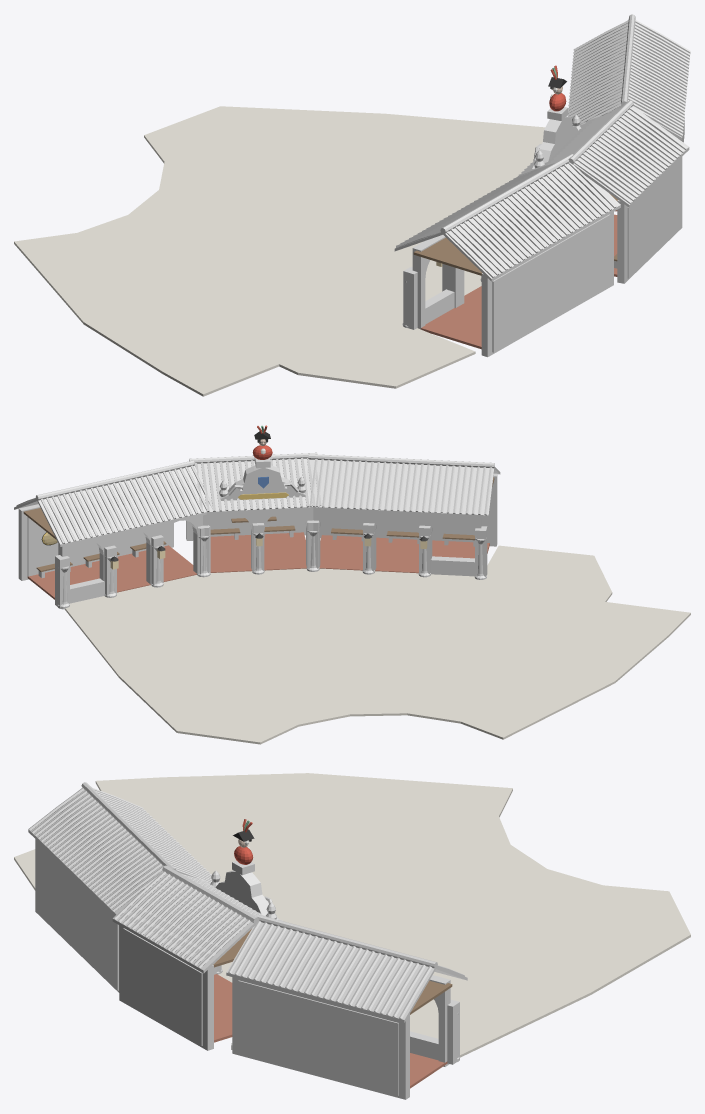
File: KG_kogeloog.fbx
The picture shows the model from 3 angles, top to bottom: view 1: azimuth 30°, elevation 25°; view 2: azimuth 150°, elevation 25°; view 3: azimuth 270°, elevation 25°; orthographic projection. The views are drawn at different scales.
Parts seen in each view (by area): view 1: static__MAT_grind_0, static__TEX_pannen_0, COLL_4, COLL_8, static__TEX_stuc_V_0, static__TEX_stuc_L_0, static__MAT_tegel_0, static__MAT_hout_0, COLL_0, static__TEX_stuc_A_0, static__TEX_baksteen_0; view 2: static__MAT_grind_0, static__TEX_pannen_0, static__MAT_tegel_0, static__TEX_stuc_A_0, static__TEX_stuc_L_0, COLL_4, COLL_13, static__MAT_hout_0, static__TEX_baksteen_0, COLL_8, COLL_12, COLL_0; view 3: static__MAT_grind_0, static__TEX_pannen_0, COLL_13, COLL_8, COLL_4, static__TEX_stuc_R_0, static__TEX_stuc_V_0, static__MAT_tegel_0, static__TEX_stuc_A_0, static__MAT_hout_0, COLL_12, static__TEX_baksteen_0.
Boxes of the visible parts, <box> form: static__MAT_grind_0: <box>14,106,545,396</box>; static__TEX_pannen_0: <box>394,14,690,281</box>; COLL_4: <box>492,214,610,352</box>; COLL_8: <box>627,159,680,278</box>; static__TEX_stuc_V_0: <box>421,108,682,356</box>; static__TEX_stuc_L_0: <box>402,111,624,356</box>; static__MAT_tegel_0: <box>421,210,617,349</box>; static__MAT_hout_0: <box>413,193,617,275</box>; COLL_0: <box>403,266,417,329</box>; static__TEX_stuc_A_0: <box>403,107,619,326</box>; static__TEX_baksteen_0: <box>425,289,454,324</box>; static__MAT_grind_0: <box>65,545,690,744</box>; static__TEX_pannen_0: <box>14,452,500,546</box>; static__MAT_tegel_0: <box>27,532,489,599</box>; static__TEX_stuc_A_0: <box>18,458,497,609</box>; static__TEX_stuc_L_0: <box>21,475,497,607</box>; COLL_4: <box>322,508,489,542</box>; COLL_13: <box>27,517,168,576</box>; static__MAT_hout_0: <box>23,477,494,571</box>; static__TEX_baksteen_0: <box>70,556,474,603</box>; COLL_8: <box>210,510,303,536</box>; COLL_12: <box>55,555,69,608</box>; COLL_0: <box>475,526,487,576</box>; static__MAT_grind_0: <box>14,773,690,1057</box>; static__TEX_pannen_0: <box>28,782,467,1022</box>; COLL_13: <box>238,980,398,1095</box>; COLL_8: <box>123,928,202,1045</box>; COLL_4: <box>37,841,118,990</box>; static__TEX_stuc_R_0: <box>207,864,458,1099</box>; static__TEX_stuc_V_0: <box>35,839,270,1050</box>; static__MAT_tegel_0: <box>214,974,447,1088</box>; static__TEX_stuc_A_0: <box>211,861,459,1099</box>; static__MAT_hout_0: <box>213,929,452,1014</box>; COLL_12: <box>447,999,459,1064</box>; static__TEX_baksteen_0: <box>410,1031,438,1060</box>.
Bounding box in the file's own units: 28.89 × 9.28 × 25.34.
